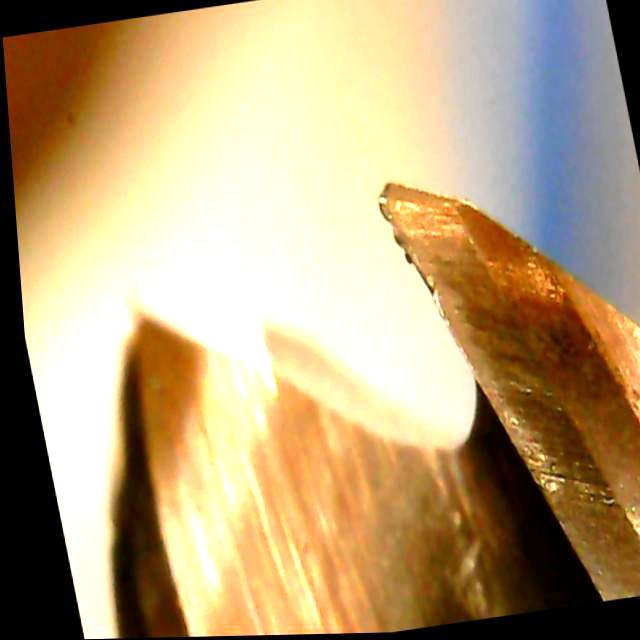Tool-wear-class-1: (327, 151, 596, 420)
